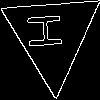H: (27, 11, 71, 50)
